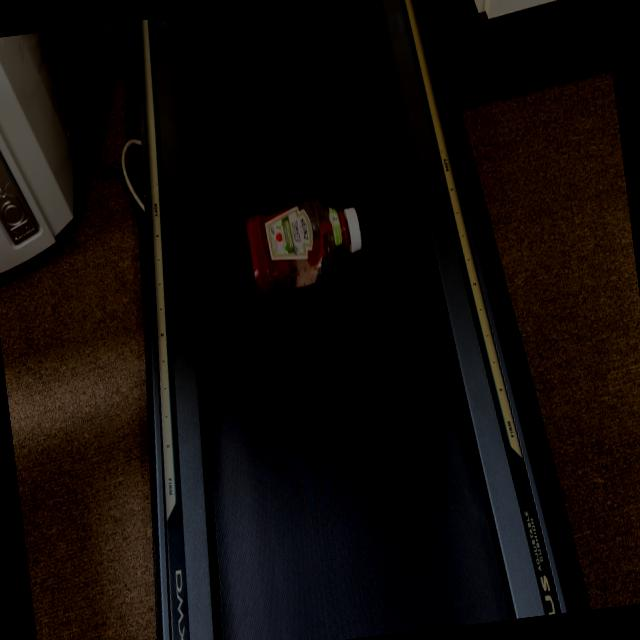Trash: (238, 186, 372, 302)
